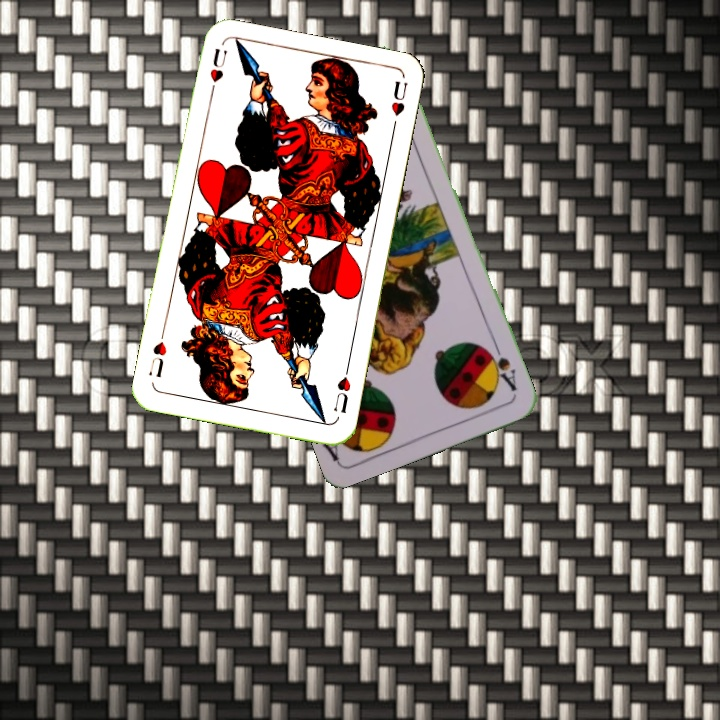HU: (206, 44, 230, 101), (329, 362, 354, 416)
SA: (482, 340, 519, 394)
